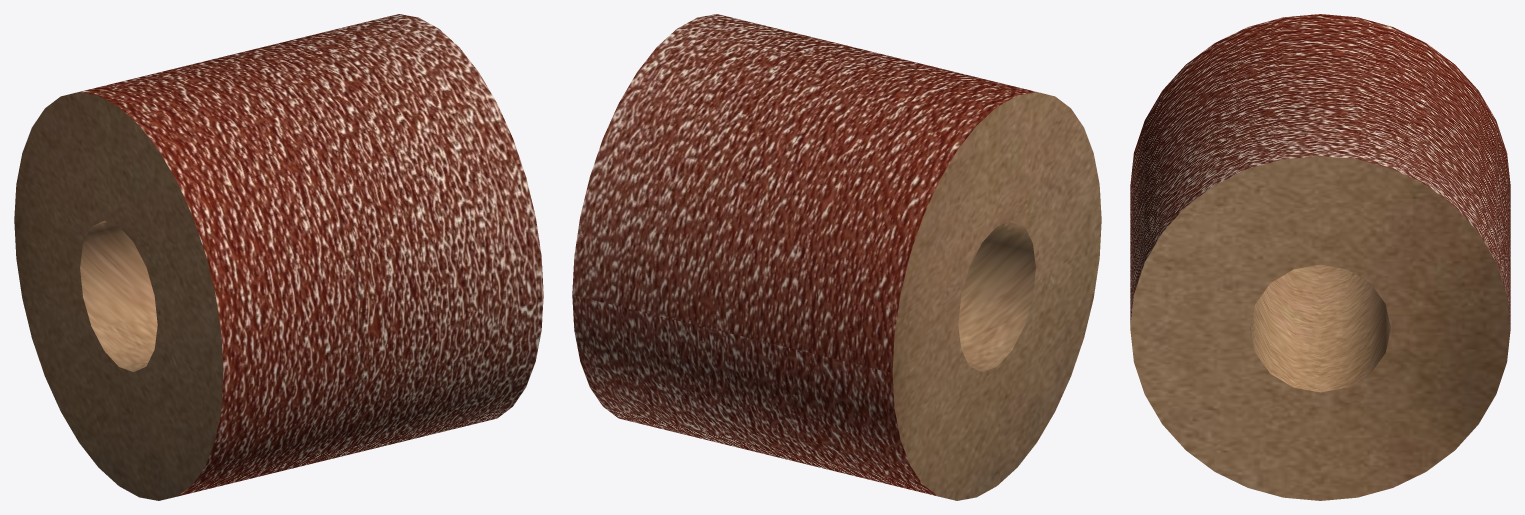
The model's file is papier_scierny_2.fbx.
The picture shows the model from 3 angles, left to right: view 1: azimuth 30°, elevation 25°; view 2: azimuth 150°, elevation 25°; view 3: azimuth 270°, elevation 25°; orthographic projection. The views are drawn at different scales.
Parts seen in each view (by area): view 1: rolka1; view 2: rolka1; view 3: rolka1.
Part boxes in pixels (x1,y1,x2,y2): rolka1: (14,14,543,500); rolka1: (572,14,1101,500); rolka1: (1130,14,1510,500).
Size of the model in its own units: 177 by 200 by 200.
